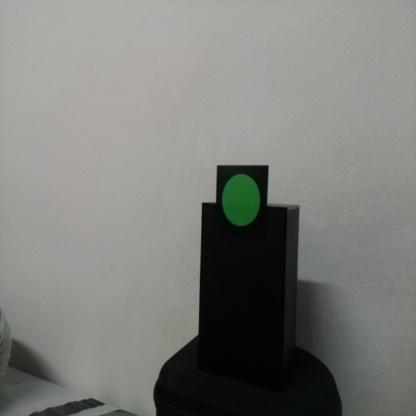id_5: (216, 166, 267, 238)
